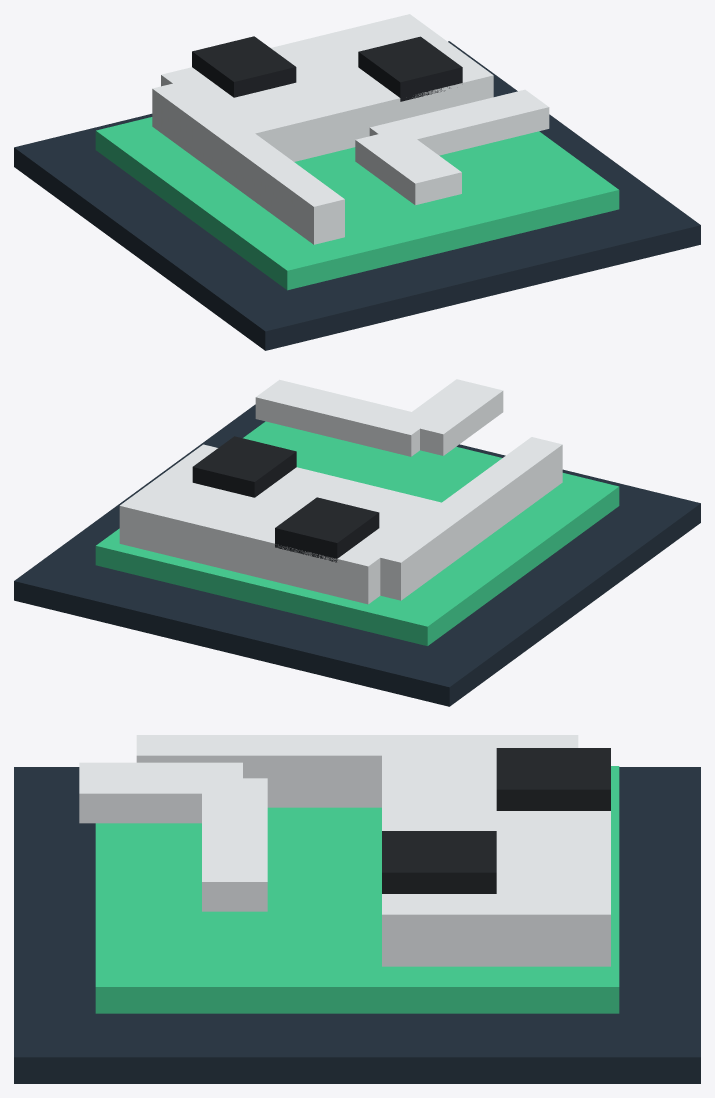
File: ar_finish_anchor_marker.glb
The picture shows the model from 3 angles, top to bottom: view 1: azimuth 30°, elevation 25°; view 2: azimuth 150°, elevation 25°; view 3: azimuth 270°, elevation 25°; orthographic projection. The views are drawn at different scales.
Parts seen in each view (by area): view 1: finish-base, finish-panel, finish-flag, finish-pole, finish-check-b, finish-check-a, finish-square-b, finish-square-a; view 2: finish-base, finish-panel, finish-flag, finish-pole, finish-check-b, finish-check-a, finish-square-a, finish-square-b; view 3: finish-base, finish-panel, finish-flag, finish-pole, finish-check-a, finish-check-b, finish-square-a, finish-square-b.
Part boxes in pixels (x1,y1,x2,y2): finish-base: [14, 41, 700, 350]; finish-panel: [95, 117, 619, 290]; finish-flag: [161, 14, 493, 161]; finish-pole: [152, 81, 344, 244]; finish-check-b: [369, 89, 549, 155]; finish-check-a: [355, 128, 461, 205]; finish-square-b: [358, 36, 462, 101]; finish-square-a: [192, 36, 296, 97]; finish-base: [14, 404, 700, 706]; finish-panel: [95, 421, 619, 645]; finish-flag: [119, 444, 449, 604]; finish-pole: [370, 437, 562, 600]; finish-check-b: [255, 379, 434, 456]; finish-check-a: [397, 379, 503, 455]; finish-square-a: [275, 497, 379, 562]; finish-square-b: [192, 436, 296, 497]; finish-base: [14, 767, 700, 1083]; finish-panel: [95, 766, 619, 1013]; finish-flag: [382, 749, 610, 966]; finish-pole: [136, 735, 578, 807]; finish-check-a: [79, 762, 242, 823]; finish-check-b: [202, 778, 267, 911]; finish-square-a: [496, 748, 610, 810]; finish-square-b: [382, 831, 496, 893].
Size of the model in its own units: 0.42 by 0.099 by 0.42.
